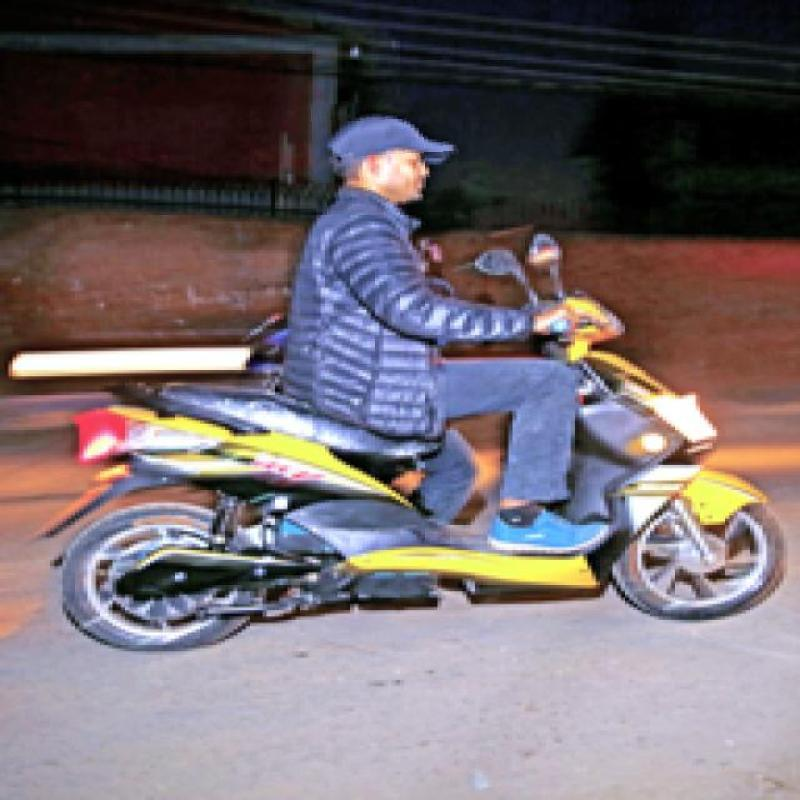nohelmet: (312, 100, 460, 214)
